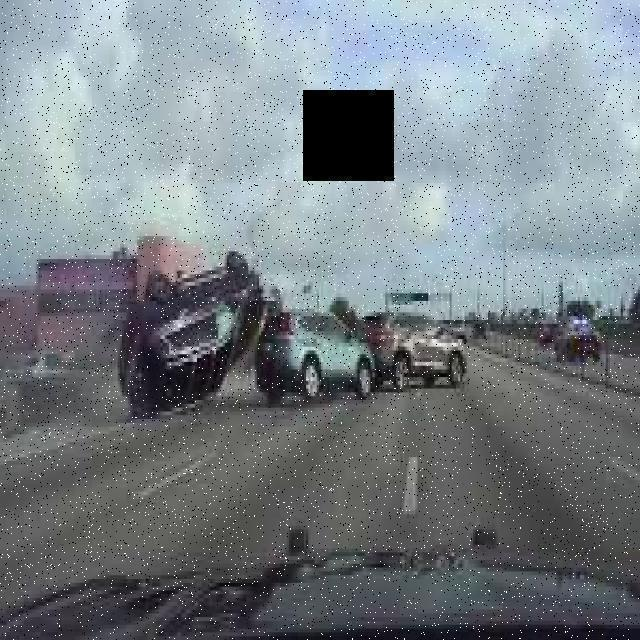accident: (252, 288, 476, 402)
